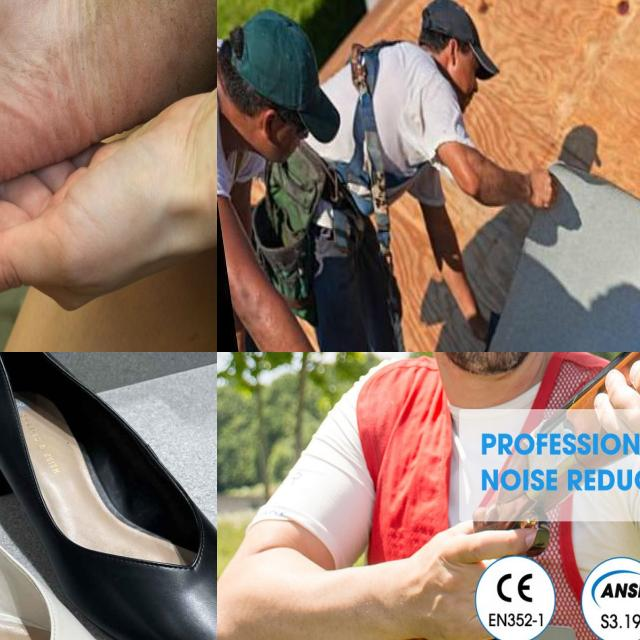Barefoots: (0, 0, 217, 207)
Harness: (333, 41, 408, 256)
Sandals: (0, 352, 217, 640), (0, 352, 203, 640)
